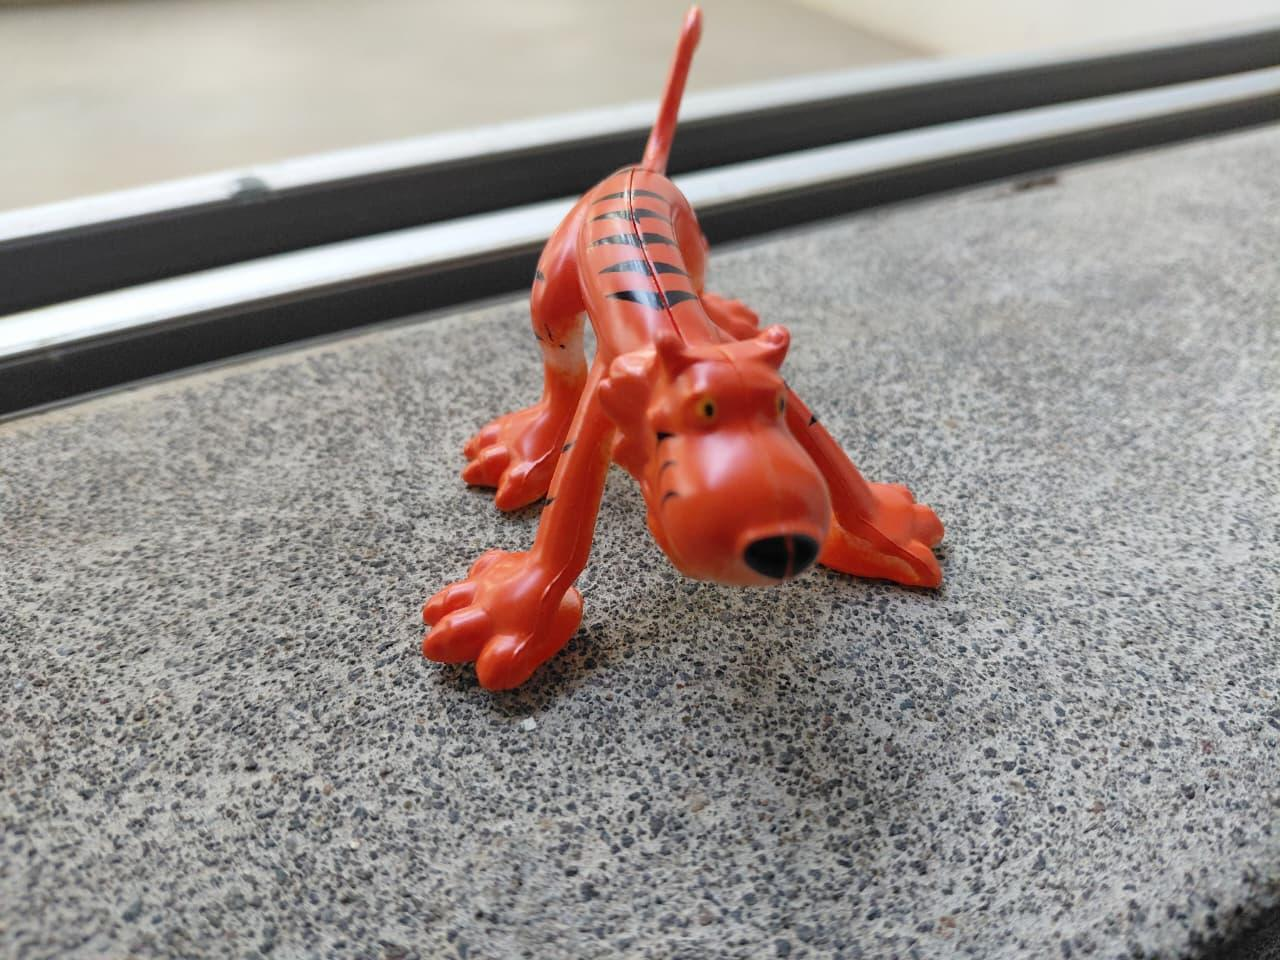tiger: (386, 12, 980, 702)
